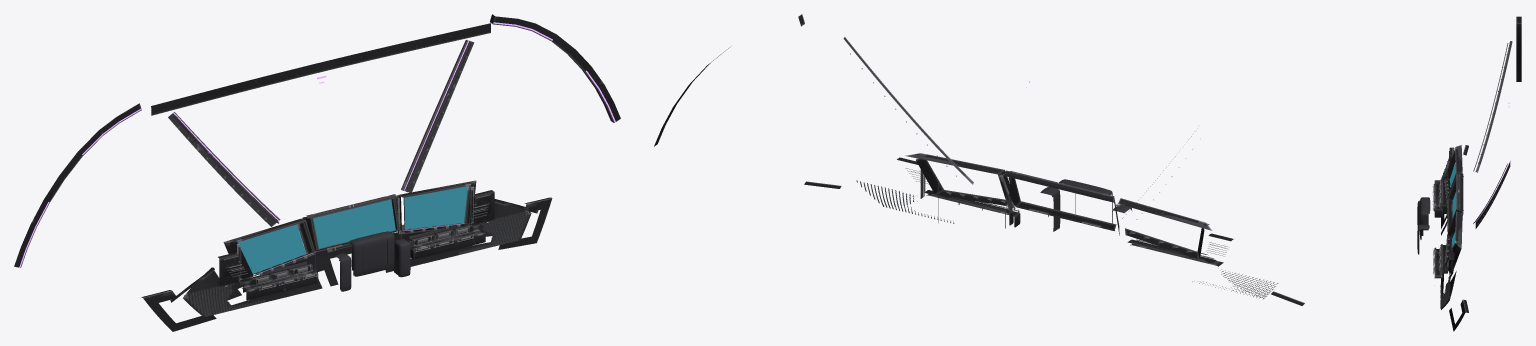
Rendered from sd_hayalet_r007_aday_r001.glb.
3 renders of one model, left to right at view 1: azimuth 30°, elevation 25°; view 2: azimuth 150°, elevation 25°; view 3: azimuth 270°, elevation 25°, orthographic. The views are drawn at different scales.
Visible parts, largest first — view 1: LOD0_body, SCR_RADAR, SCR_HULL, SCR_SYS, LOD0_emit; view 2: LOD0_body; view 3: LOD0_body, SCR_RADAR.
Boxes of the visible parts, x1,y1,x2,y2 form: LOD0_body: [14, 14, 620, 331]; SCR_RADAR: [313, 199, 395, 248]; SCR_HULL: [404, 186, 467, 229]; SCR_SYS: [237, 224, 306, 273]; LOD0_emit: [19, 22, 615, 274]; LOD0_body: [654, 14, 1304, 305]; LOD0_body: [1417, 16, 1521, 331]; SCR_RADAR: [1452, 191, 1456, 217].
Size of the model in its own units: 4.82 by 1.52 by 0.8564.
Materials: 3 (1 with a texture image).
